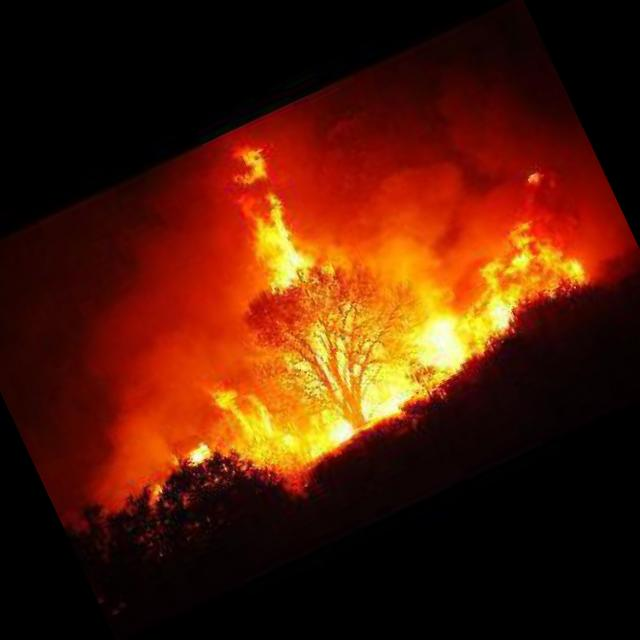fire: (68, 31, 615, 506)
